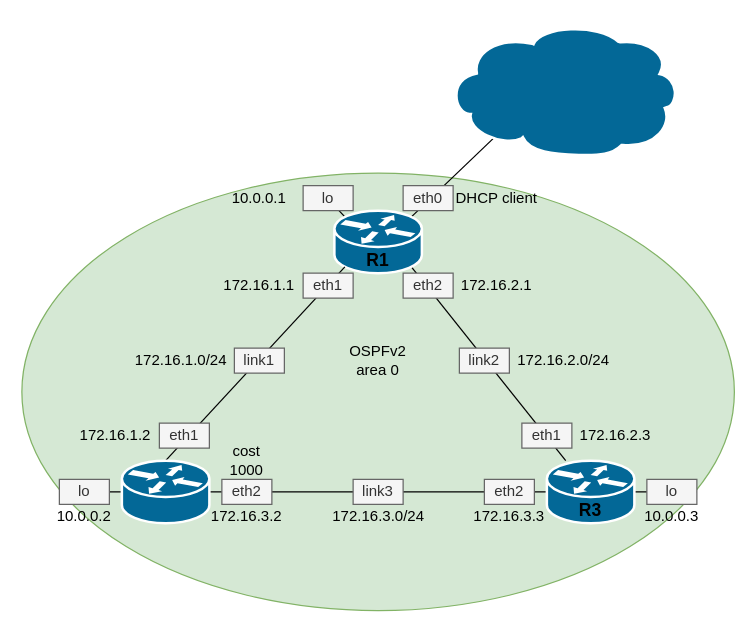
Image size: 756x633. Some labels were removed from this diagram. Here are the shapes that lost their labels. From the top down, the box of each, then its label:
(445, 21, 680, 156): ISP
(120, 459, 210, 524): R2
